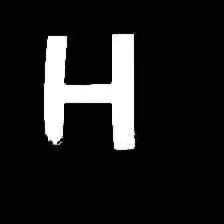LTR_H: (28, 21, 140, 162)
